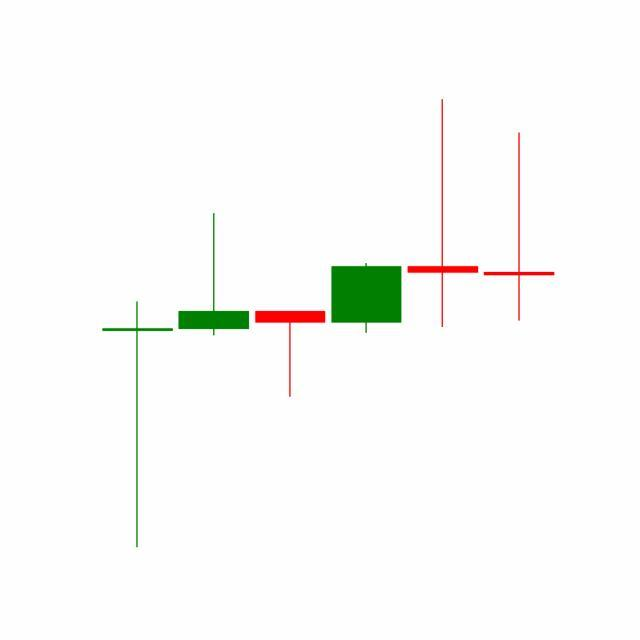Spinning Top: (404, 96, 482, 330)
